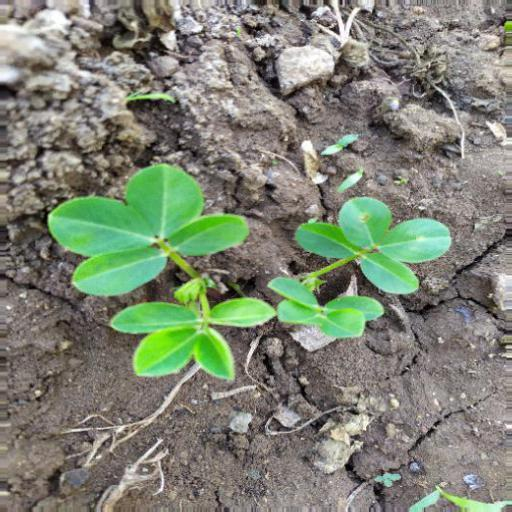weed: (37, 154, 473, 436)
